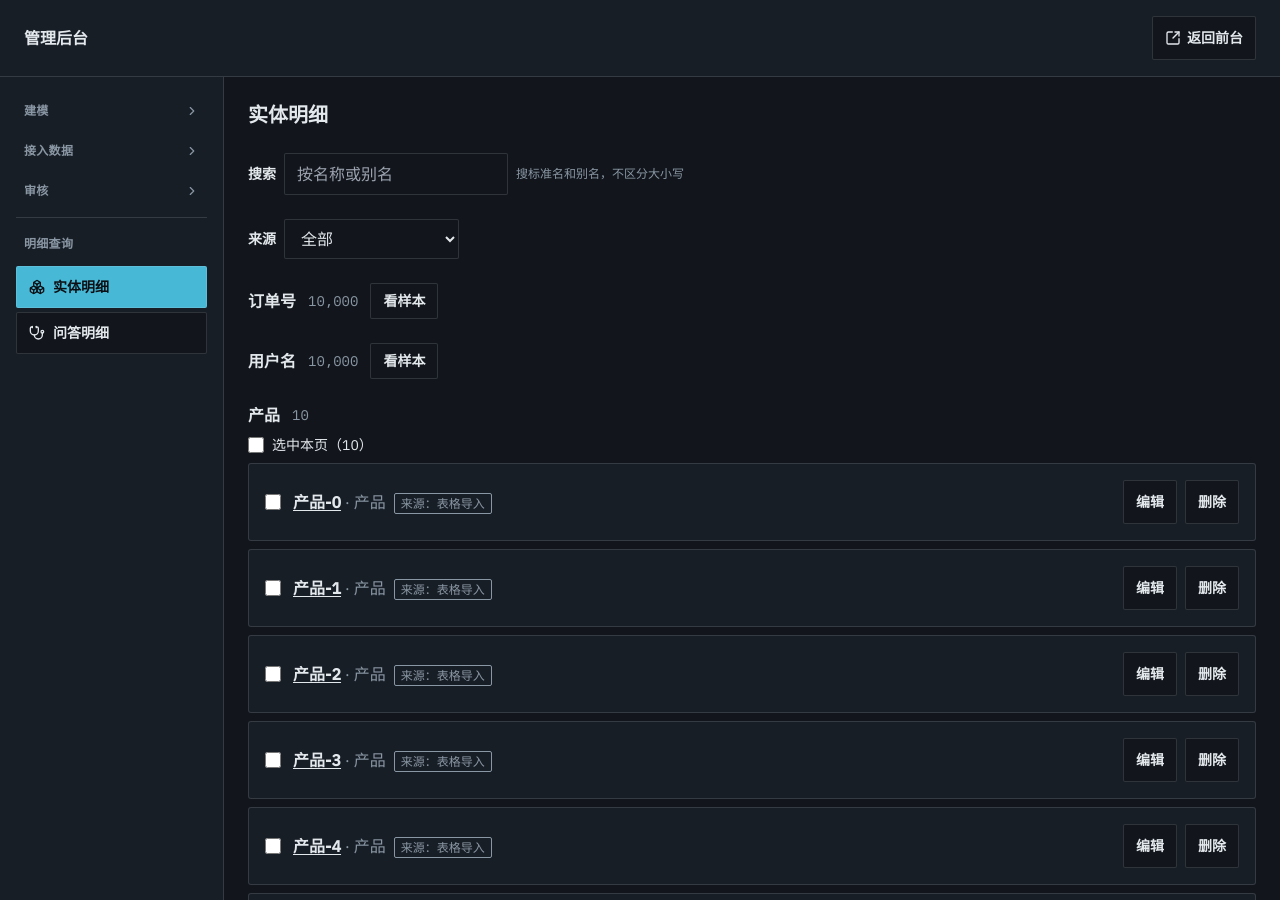
Test: 搜索 › 搜索时不分组——找一个具体实体时分组只碍事
Expected: the element "订单号 10,000 看样本" is shown, [248,283,438,319]
Type "可口" into the search field labelled "搜索" at (396,174), box [284,153,508,195]
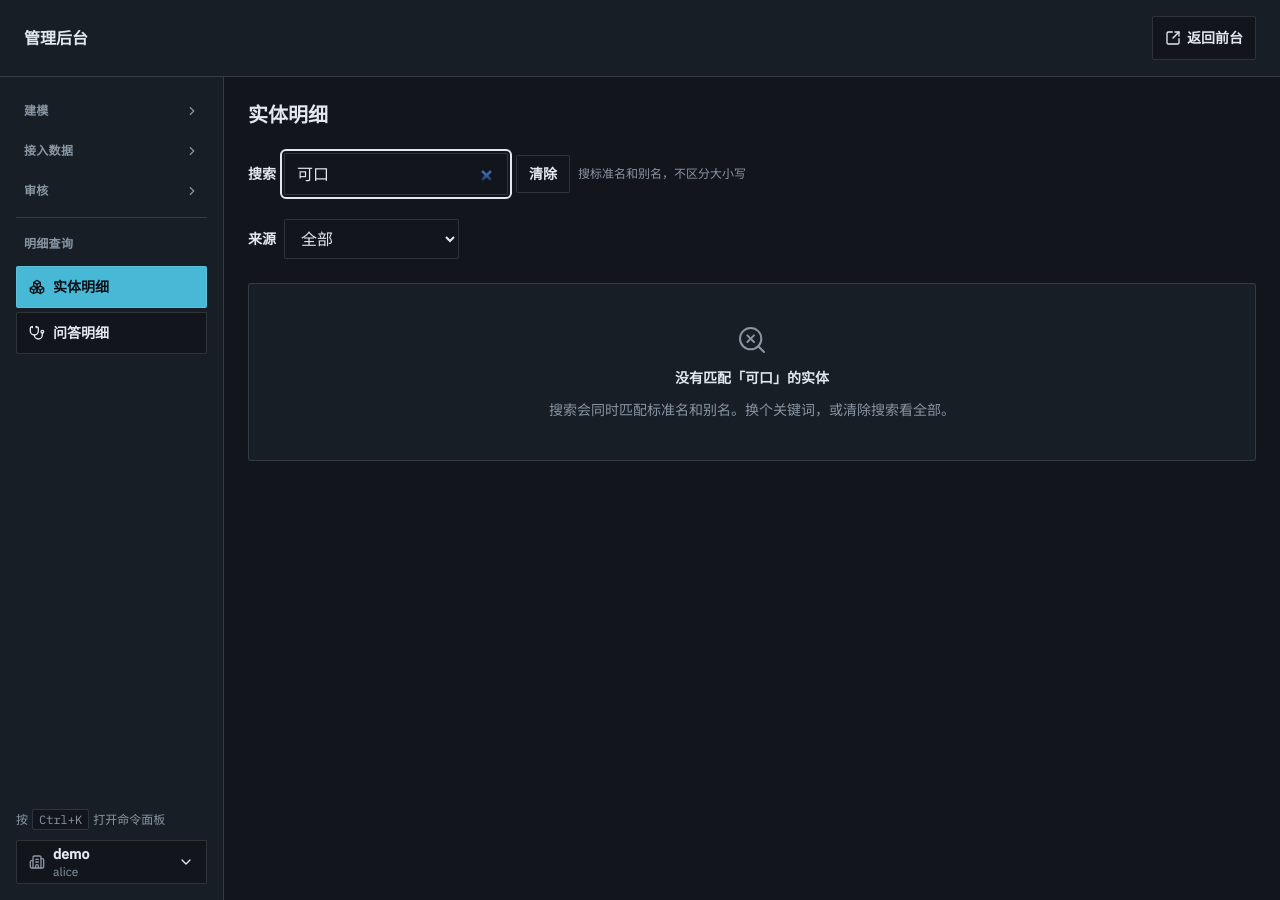
Now the heading "订单号" is gone
